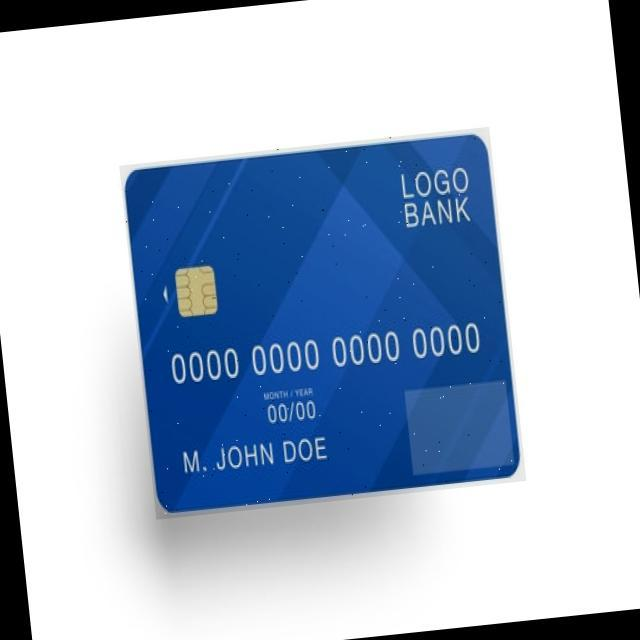payment_card: (118, 126, 523, 517)
